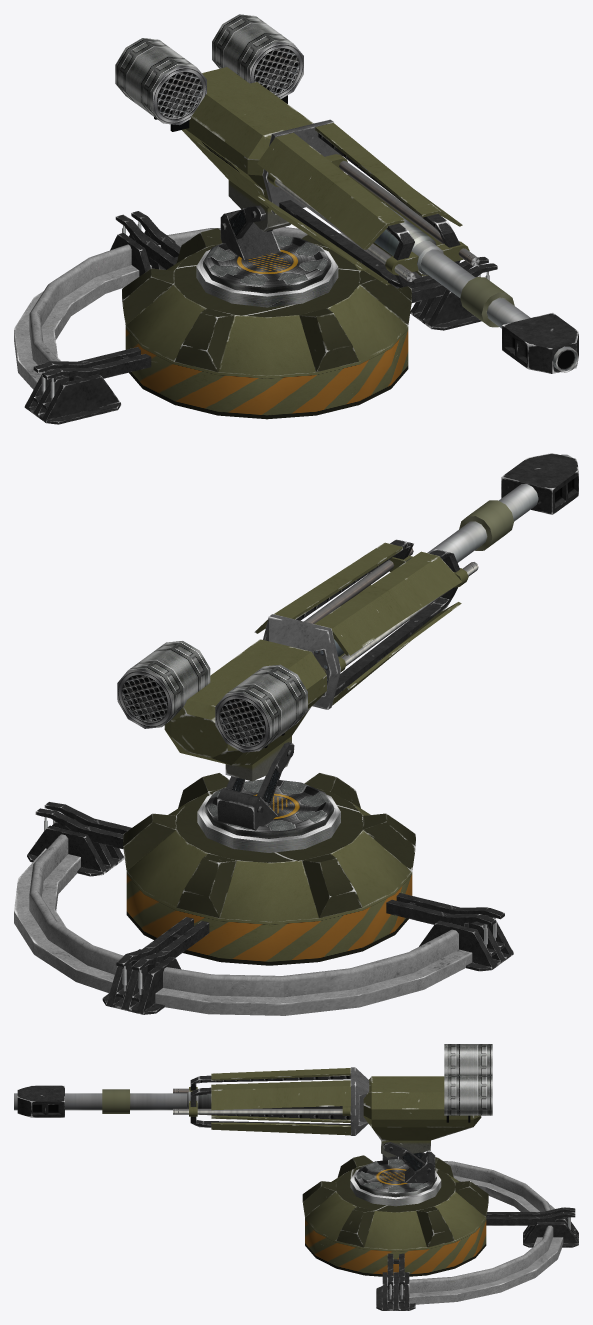
File: mini_turret_tower_03.fbx
The picture shows the model from 3 angles, top to bottom: view 1: azimuth 30°, elevation 25°; view 2: azimuth 150°, elevation 25°; view 3: azimuth 270°, elevation 25°; orthographic projection. The views are drawn at different scales.
Parts seen in each view (by area): view 1: body (×2), decor (×2), holder (×2), barrel, leg_bottom (×3), leg_arm (×3), decor2; view 2: body (×2), holder (×2), decor (×2), leg_arm (×3), leg_bottom (×3), barrel, decor2; view 3: body (×2), holder (×2), decor (×2), barrel, leg_bottom (×2), leg_arm (×2), decor2.
Part boxes in pixels (x1=…): body (×2): x1=122, y1=67, x2=479, y2=419; decor (×2): x1=115, y1=14, x2=338, y2=307; holder (×2): x1=14, y1=227, x2=428, y2=389; barrel: x1=374, y1=201, x2=578, y2=373; leg_bottom (×3): x1=24, y1=230, x2=481, y2=424; leg_arm (×3): x1=33, y1=211, x2=497, y2=409; decor2: x1=220, y1=205, x2=280, y2=259; body (×2): x1=123, y1=539, x2=478, y2=965; holder (×2): x1=14, y1=779, x2=472, y2=1015; decor (×2): x1=117, y1=641, x2=340, y2=852; leg_arm (×3): x1=35, y1=802, x2=504, y2=1001; leg_bottom (×3): x1=27, y1=821, x2=513, y2=1014; barrel: x1=334, y1=453, x2=578, y2=656; decor2: x1=217, y1=742, x2=294, y2=830; body (×2): x1=173, y1=1067, x2=488, y2=1277; holder (×2): x1=354, y1=1159, x2=563, y2=1304; decor (×2): x1=350, y1=1044, x2=492, y2=1206; barrel: x1=14, y1=1085, x2=342, y2=1117; leg_bottom (×2): x1=376, y1=1217, x2=578, y2=1310; leg_arm (×2): x1=387, y1=1207, x2=575, y2=1303; decor2: x1=383, y1=1142, x2=435, y2=1182.
Size of the model in its own units: 7.52 by 4.33 by 12.44.
